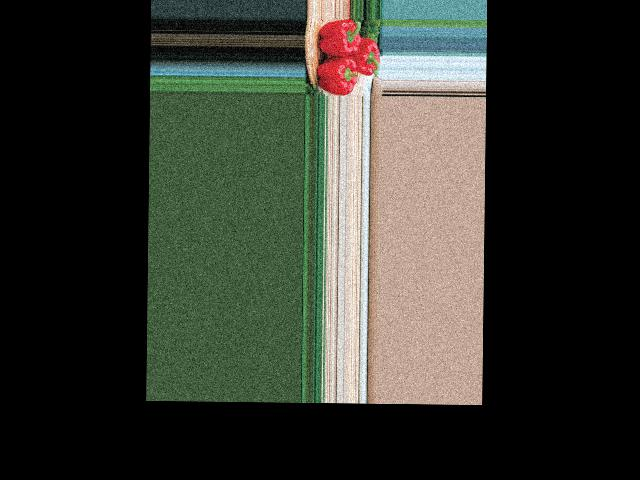bell_pepper: (313, 19, 361, 61)
